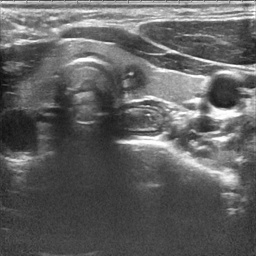mass: (116, 62, 151, 92)
